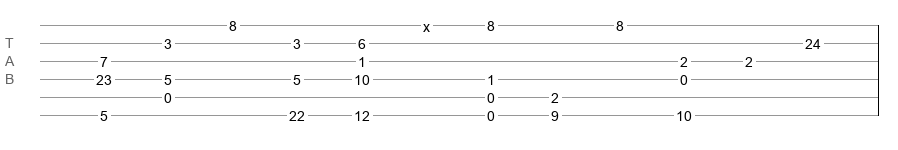0: (164, 90, 172, 100), (487, 108, 495, 118), (487, 90, 495, 100), (680, 72, 688, 82)
1: (358, 54, 366, 64), (487, 72, 495, 82)
10: (354, 72, 370, 82), (676, 108, 692, 118)
12: (354, 108, 370, 118)
2: (551, 90, 559, 100), (680, 54, 688, 64), (745, 54, 753, 64)
22: (289, 108, 305, 118)
23: (96, 72, 112, 82)
24: (805, 36, 821, 46)
3: (164, 36, 172, 46), (293, 36, 301, 46)
5: (100, 108, 108, 118), (164, 72, 172, 82), (293, 72, 301, 82)
6: (358, 36, 366, 46)
7: (100, 54, 108, 64)
8: (229, 18, 237, 28), (487, 18, 495, 28), (616, 18, 624, 28)
9: (551, 108, 559, 118)
x: (423, 19, 430, 27)
